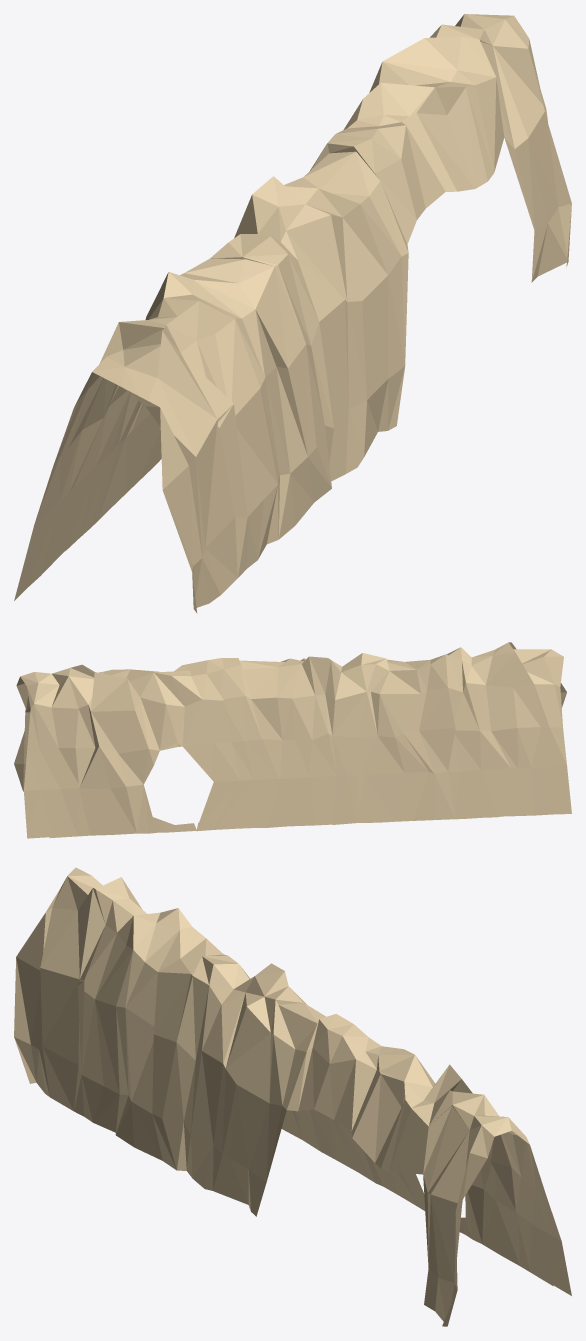
The model's file is T4CliffEntrance.fbx.
The picture shows the model from 3 angles, top to bottom: view 1: azimuth 30°, elevation 25°; view 2: azimuth 150°, elevation 25°; view 3: azimuth 270°, elevation 25°; orthographic projection. The views are drawn at different scales.
Parts seen in each view (by area): view 1: Klippe.007; view 2: Klippe.007; view 3: Klippe.007.
Boxes of the visible parts, x1,y1,x2,y2 form: Klippe.007: [14, 14, 571, 613]; Klippe.007: [14, 642, 571, 838]; Klippe.007: [14, 867, 571, 1326].
Bounding box in the file's own units: 93.18 × 30.49 × 74.64.
